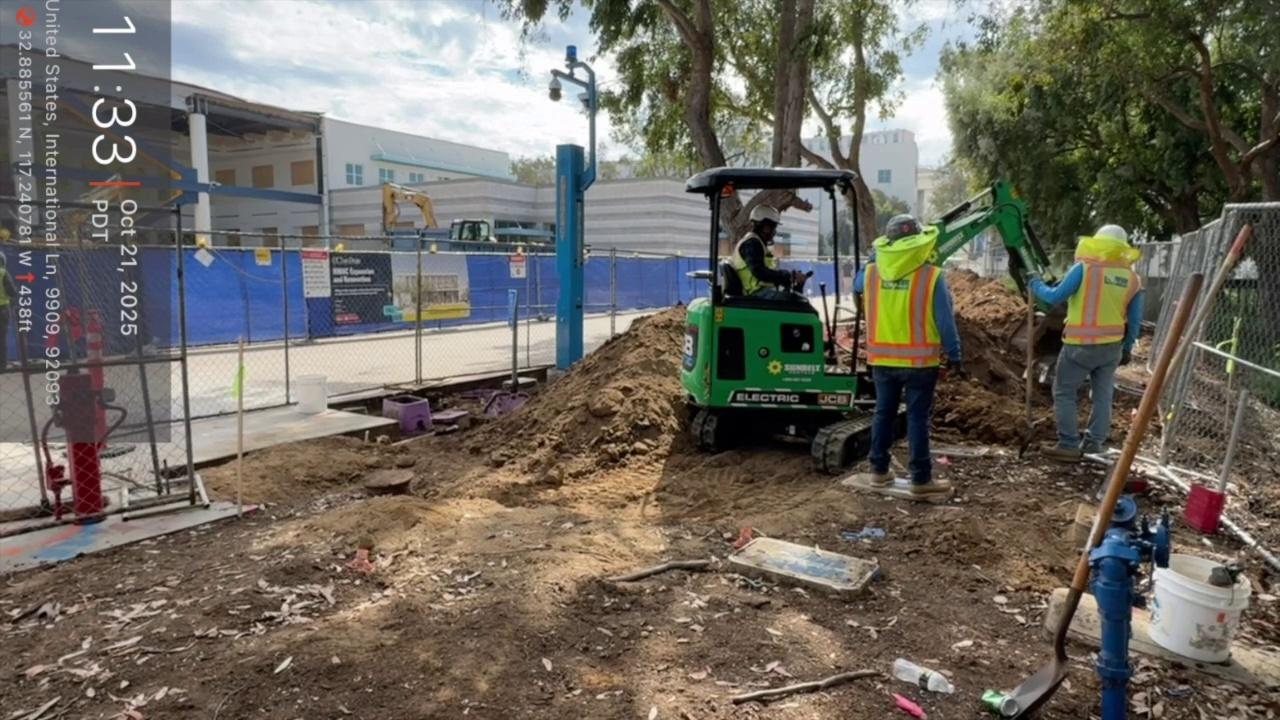Exacavator: (670, 113, 1107, 462)
